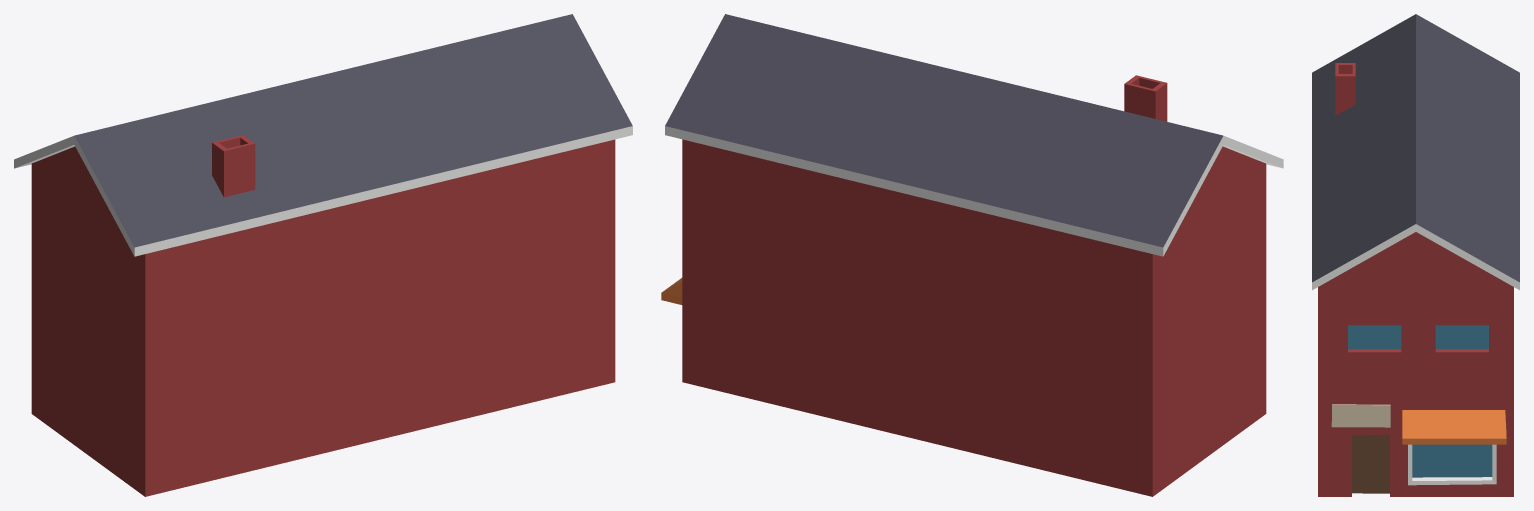
The model's file is shopsloped.fbx.
3 views of the same model, side by side, from view 1: azimuth 30°, elevation 25°; view 2: azimuth 150°, elevation 25°; view 3: azimuth 270°, elevation 25° (orthographic). The views are drawn at different scales.
Parts seen in each view (by area): view 1: Cube.019, Cube.022; view 2: Cube.019, Cube.022; view 3: Cube.019, Cube.020, Plane.003, Cube.022.
Part boxes in pixels (x1,y1,x2,y2): Cube.019: (14, 14, 632, 496); Cube.022: (212, 135, 255, 197); Cube.019: (665, 14, 1283, 496); Cube.022: (1124, 75, 1167, 121); Cube.019: (1312, 14, 1519, 496); Cube.020: (1402, 410, 1506, 444); Plane.003: (1331, 404, 1390, 427); Cube.022: (1335, 63, 1355, 115).
Bounding box in the file's own units: 3.4 × 2.06 × 1.39.
